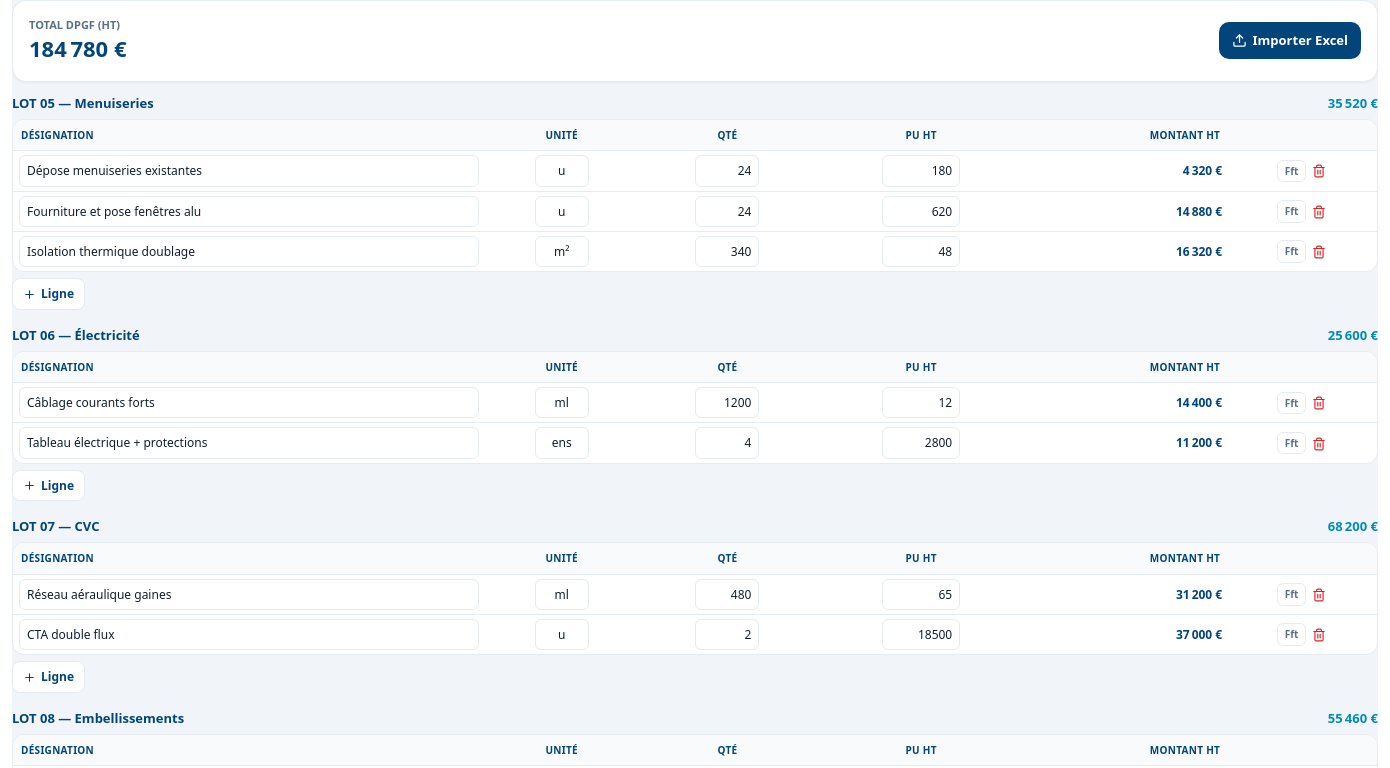
Test: <DpgfView /> — quantitatif & forfait › bascule une ligne en forfait et remplace qté/PU par un montant
This screenshot has width=1390, height=768.
Click the button titled "Basculer forfait" next to "4 320 €". click: (1292, 171)
box: [1277, 160, 1306, 182]
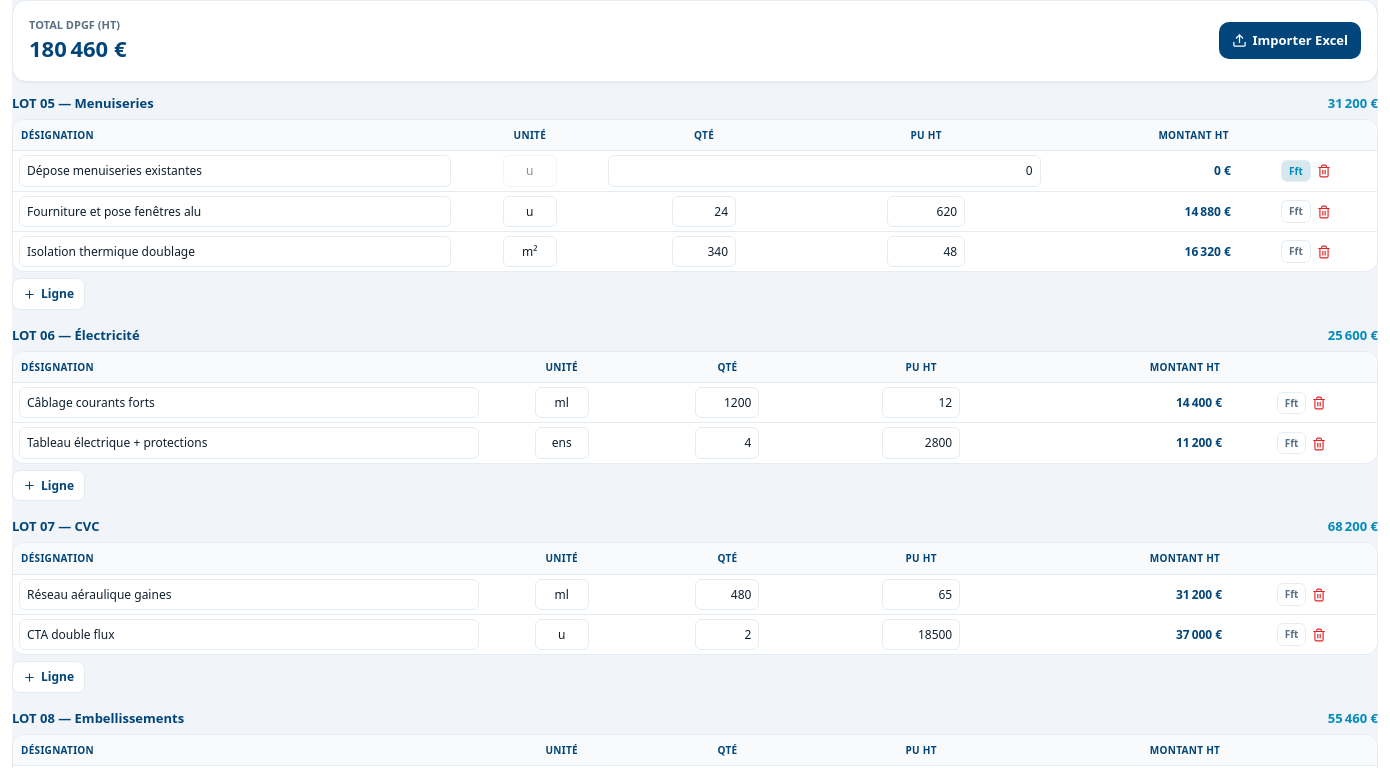
Result: the 3rd field with placeholder "Montant forfait HT" is shown at [608, 155, 1041, 187]
